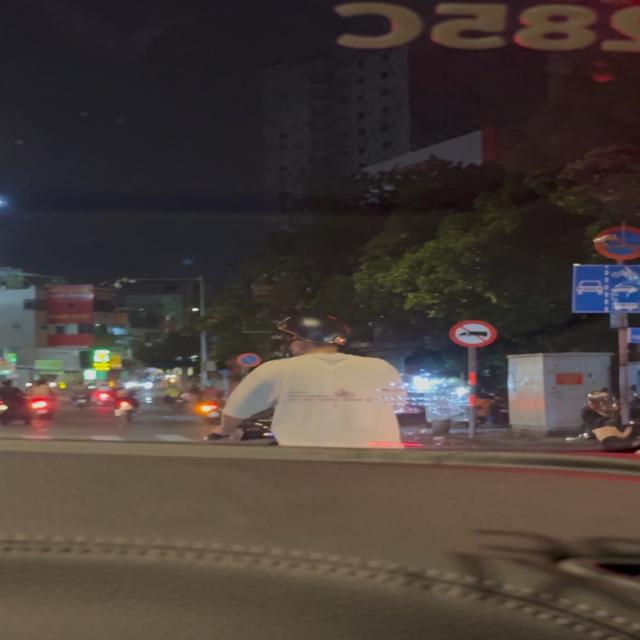Bien bao cam do xe: (237, 352, 268, 368)
Bien bao cam xe so-mi ro-mooc: (448, 318, 498, 347)
